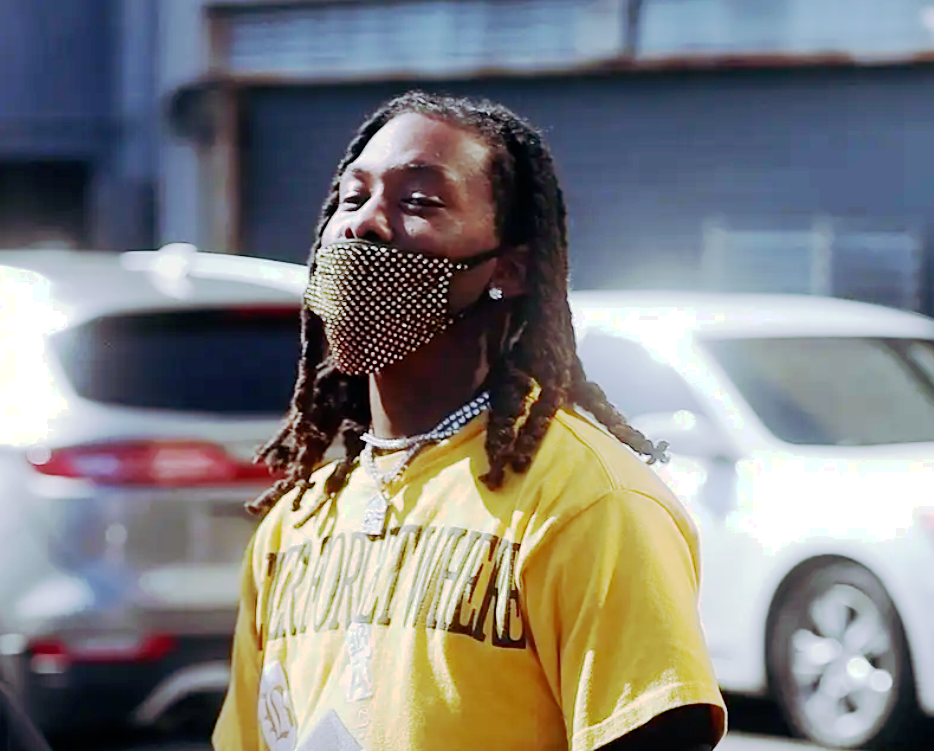mask_weared_incorrect: (299, 90, 563, 377)
